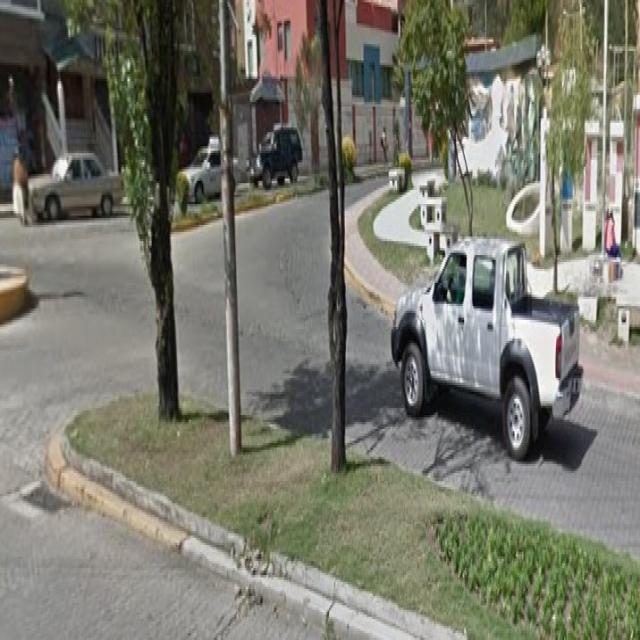Car: (394, 232, 581, 449), (29, 148, 120, 215), (177, 122, 227, 222), (258, 120, 315, 200)
